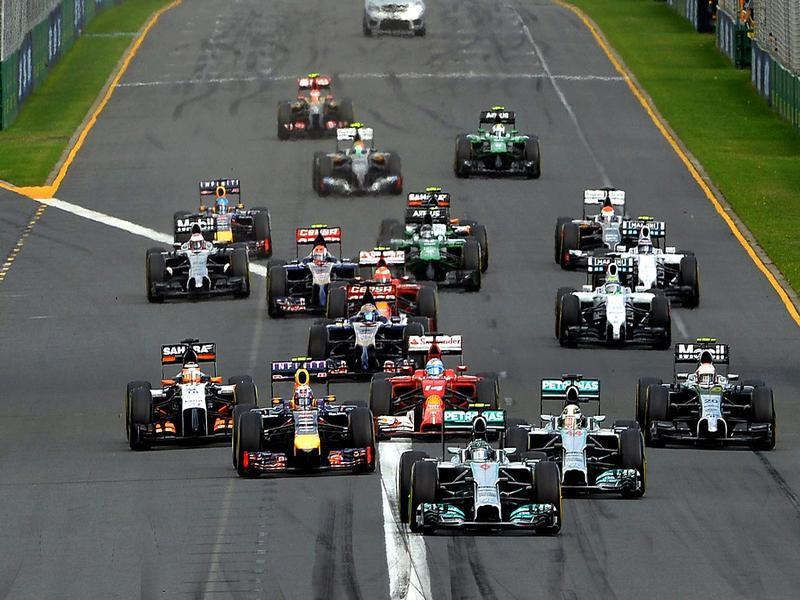f1: (500, 363, 661, 510), (398, 413, 565, 534), (232, 358, 382, 483), (363, 332, 515, 448), (632, 346, 790, 456), (119, 345, 261, 446), (551, 264, 685, 348), (591, 220, 711, 312), (265, 219, 378, 316), (367, 204, 487, 294), (379, 184, 503, 271), (302, 299, 441, 374), (555, 182, 670, 266), (144, 216, 254, 300), (172, 175, 276, 259), (306, 117, 406, 197), (455, 103, 546, 181), (273, 70, 356, 136)
